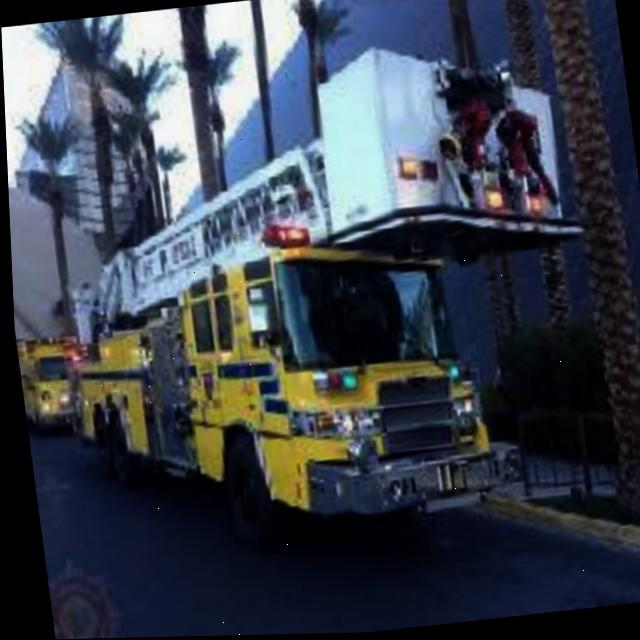emergency: (57, 234, 514, 553)
